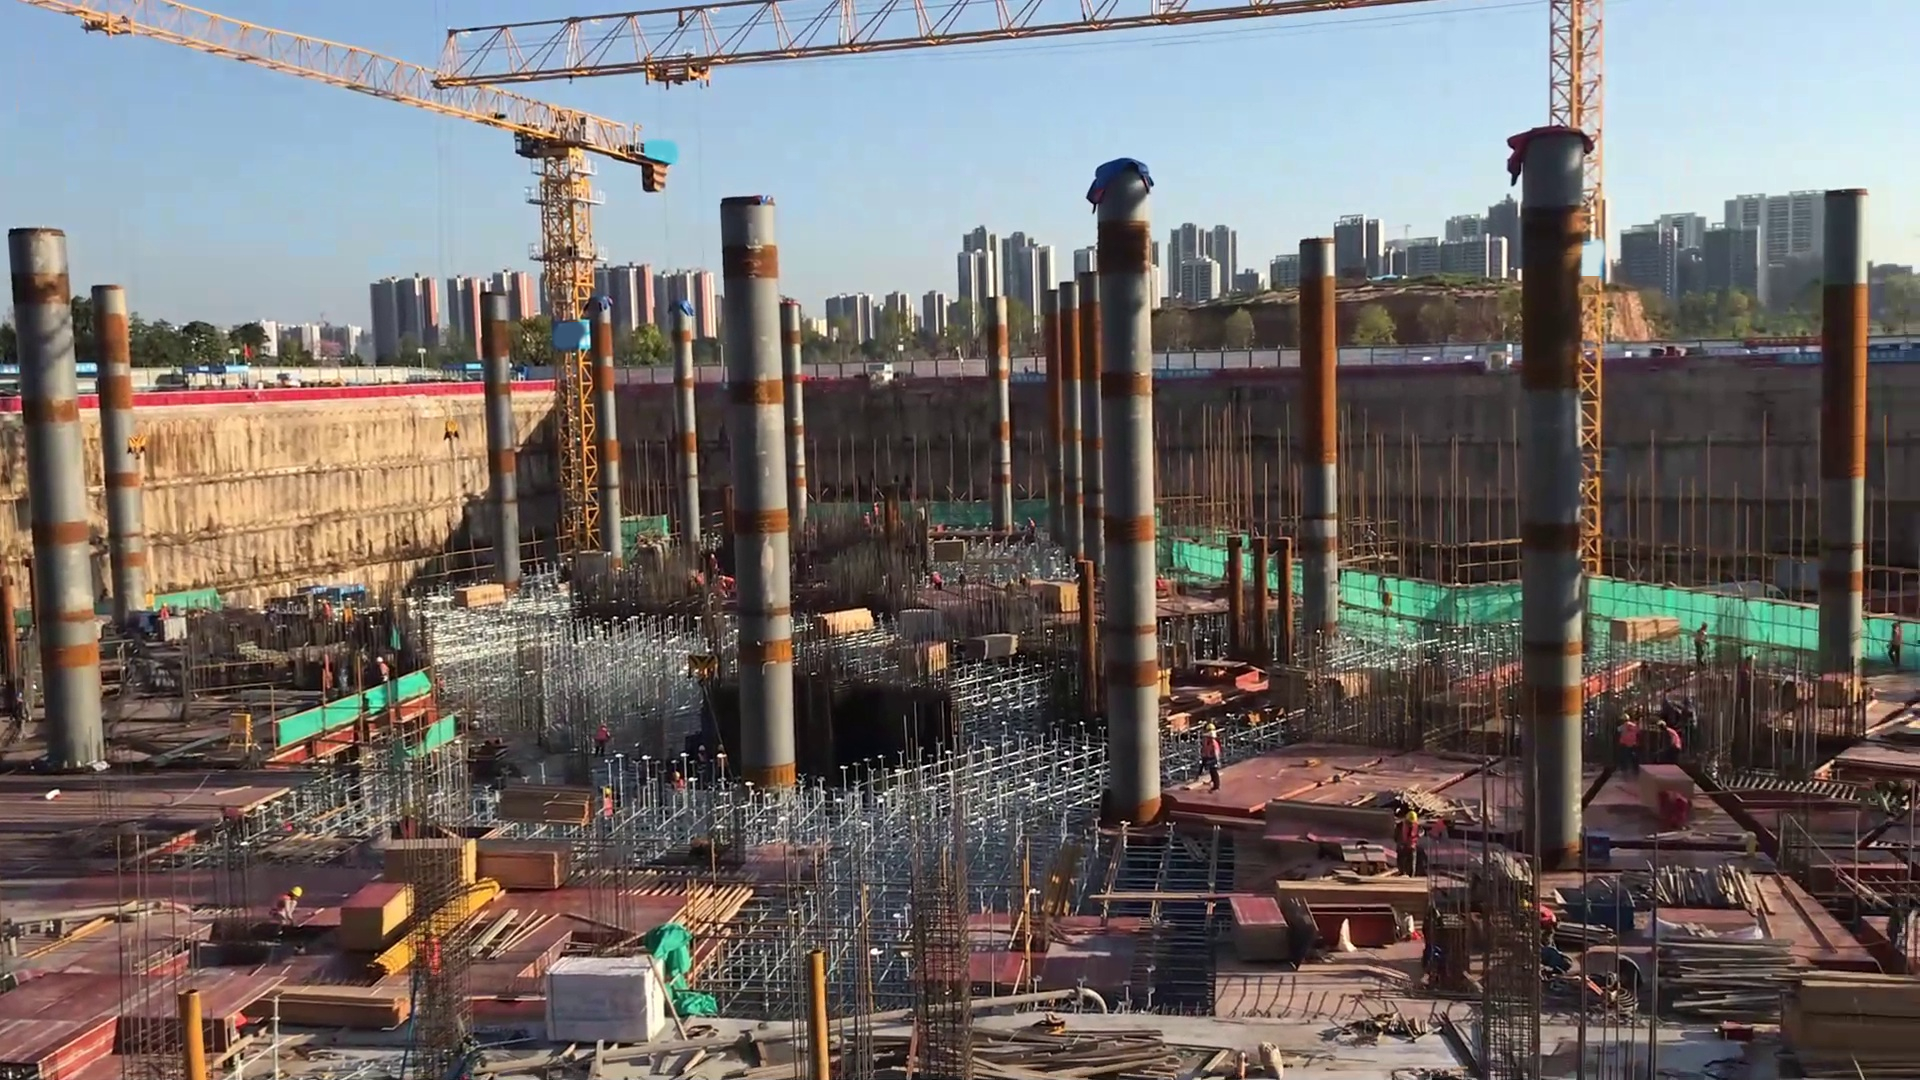board: (380, 830, 482, 914), (340, 882, 414, 955), (1231, 893, 1295, 972), (1043, 580, 1081, 613)
ebox: (223, 709, 265, 756)
helmet: (288, 885, 303, 904), (1516, 897, 1532, 915), (1618, 711, 1634, 727), (1404, 812, 1422, 827), (1204, 720, 1216, 739), (1657, 718, 1669, 732), (1206, 730, 1219, 744), (602, 786, 612, 798)
hook: (1558, 885, 1641, 932), (123, 430, 154, 462), (445, 414, 466, 441)
person: (1515, 893, 1559, 952), (1393, 807, 1424, 880), (268, 882, 309, 935), (1615, 711, 1644, 777), (7, 685, 34, 750), (1655, 787, 1691, 833), (598, 779, 618, 845), (1654, 717, 1681, 768), (1425, 812, 1458, 853), (1885, 618, 1906, 679), (1692, 621, 1713, 676), (1207, 728, 1222, 792), (1199, 721, 1215, 780), (691, 743, 711, 790), (594, 723, 612, 762), (715, 745, 731, 787), (375, 651, 391, 687), (955, 563, 970, 597), (673, 771, 688, 803), (156, 601, 172, 630), (318, 597, 331, 629), (929, 569, 944, 594)
slogan: (1149, 367, 1217, 382), (1007, 373, 1049, 383)
vest: (1398, 821, 1420, 857), (1621, 720, 1639, 752), (272, 895, 295, 919), (1664, 726, 1682, 752), (1430, 817, 1445, 840), (602, 799, 613, 820), (596, 728, 608, 744)
wood: (1776, 968, 1920, 1077), (1653, 931, 1804, 1021), (974, 1016, 1177, 1080), (252, 983, 411, 1025), (471, 834, 572, 898), (1272, 882, 1432, 921), (495, 780, 594, 829), (1608, 610, 1685, 650), (810, 601, 882, 640), (450, 579, 513, 619), (964, 627, 1020, 666)
